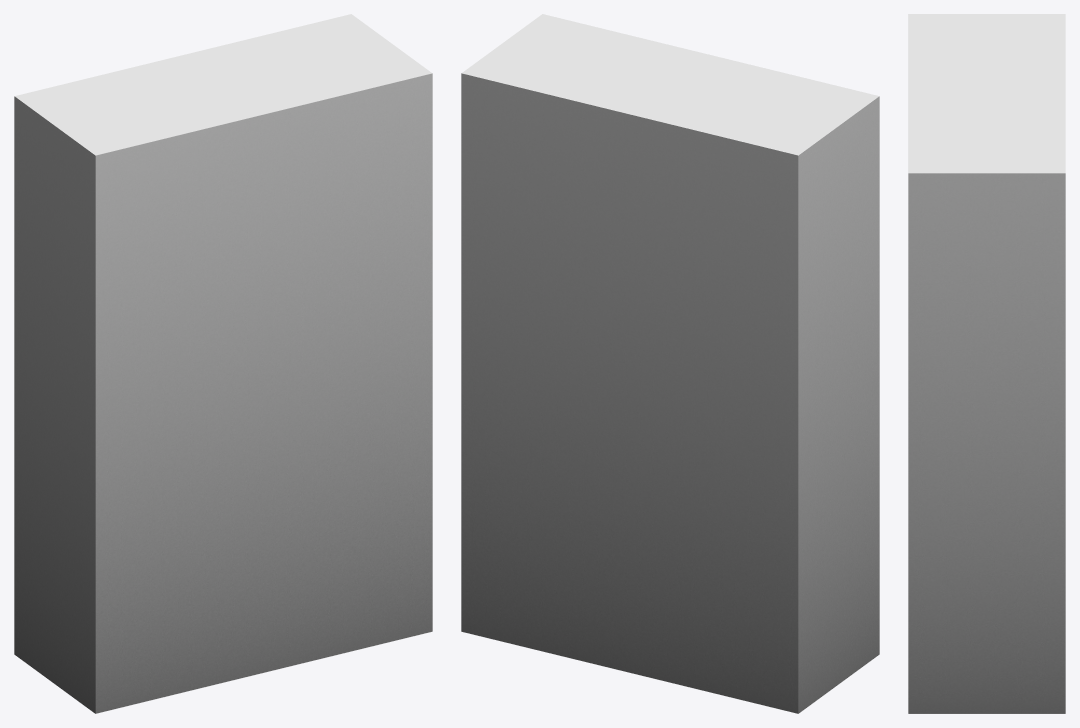
The model's file is 01-pure.fbx.
The picture shows the model from 3 angles, left to right: view 1: azimuth 30°, elevation 25°; view 2: azimuth 150°, elevation 25°; view 3: azimuth 270°, elevation 25°; orthographic projection. The views are drawn at different scales.
Visible parts, largest first — view 1: 01_obj_pure; view 2: 01_obj_pure; view 3: 01_obj_pure.
Part boxes in pixels (x1=…): 01_obj_pure: x1=14, y1=14, x2=432, y2=713; 01_obj_pure: x1=461, y1=14, x2=879, y2=713; 01_obj_pure: x1=908, y1=14, x2=1065, y2=713.
Size of what is drawn, in the model's own units: 12 by 19 by 5.
1 material, 1 textured.
